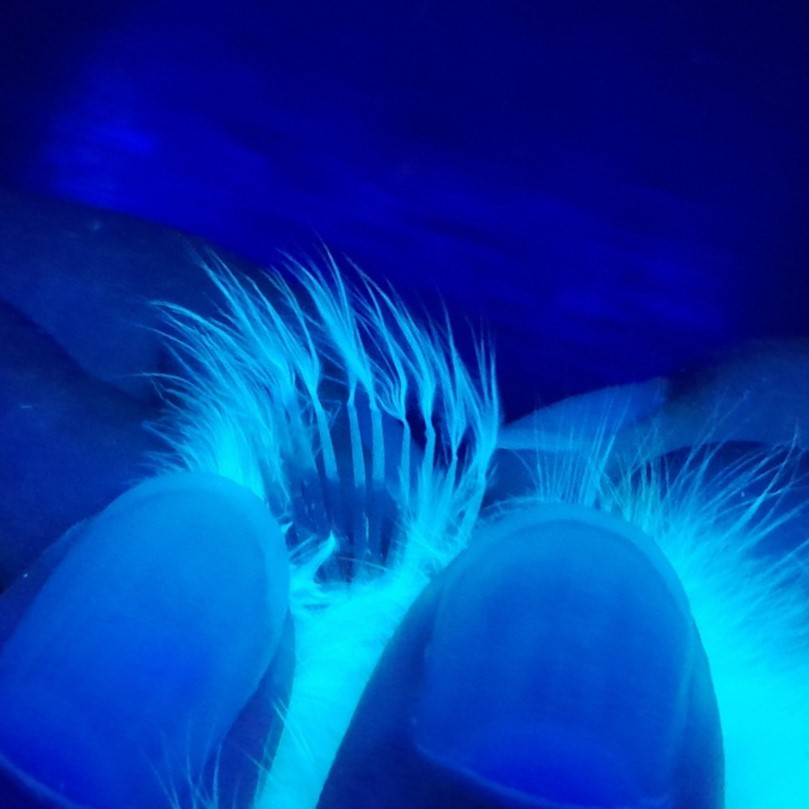male: (208, 341, 503, 611)
